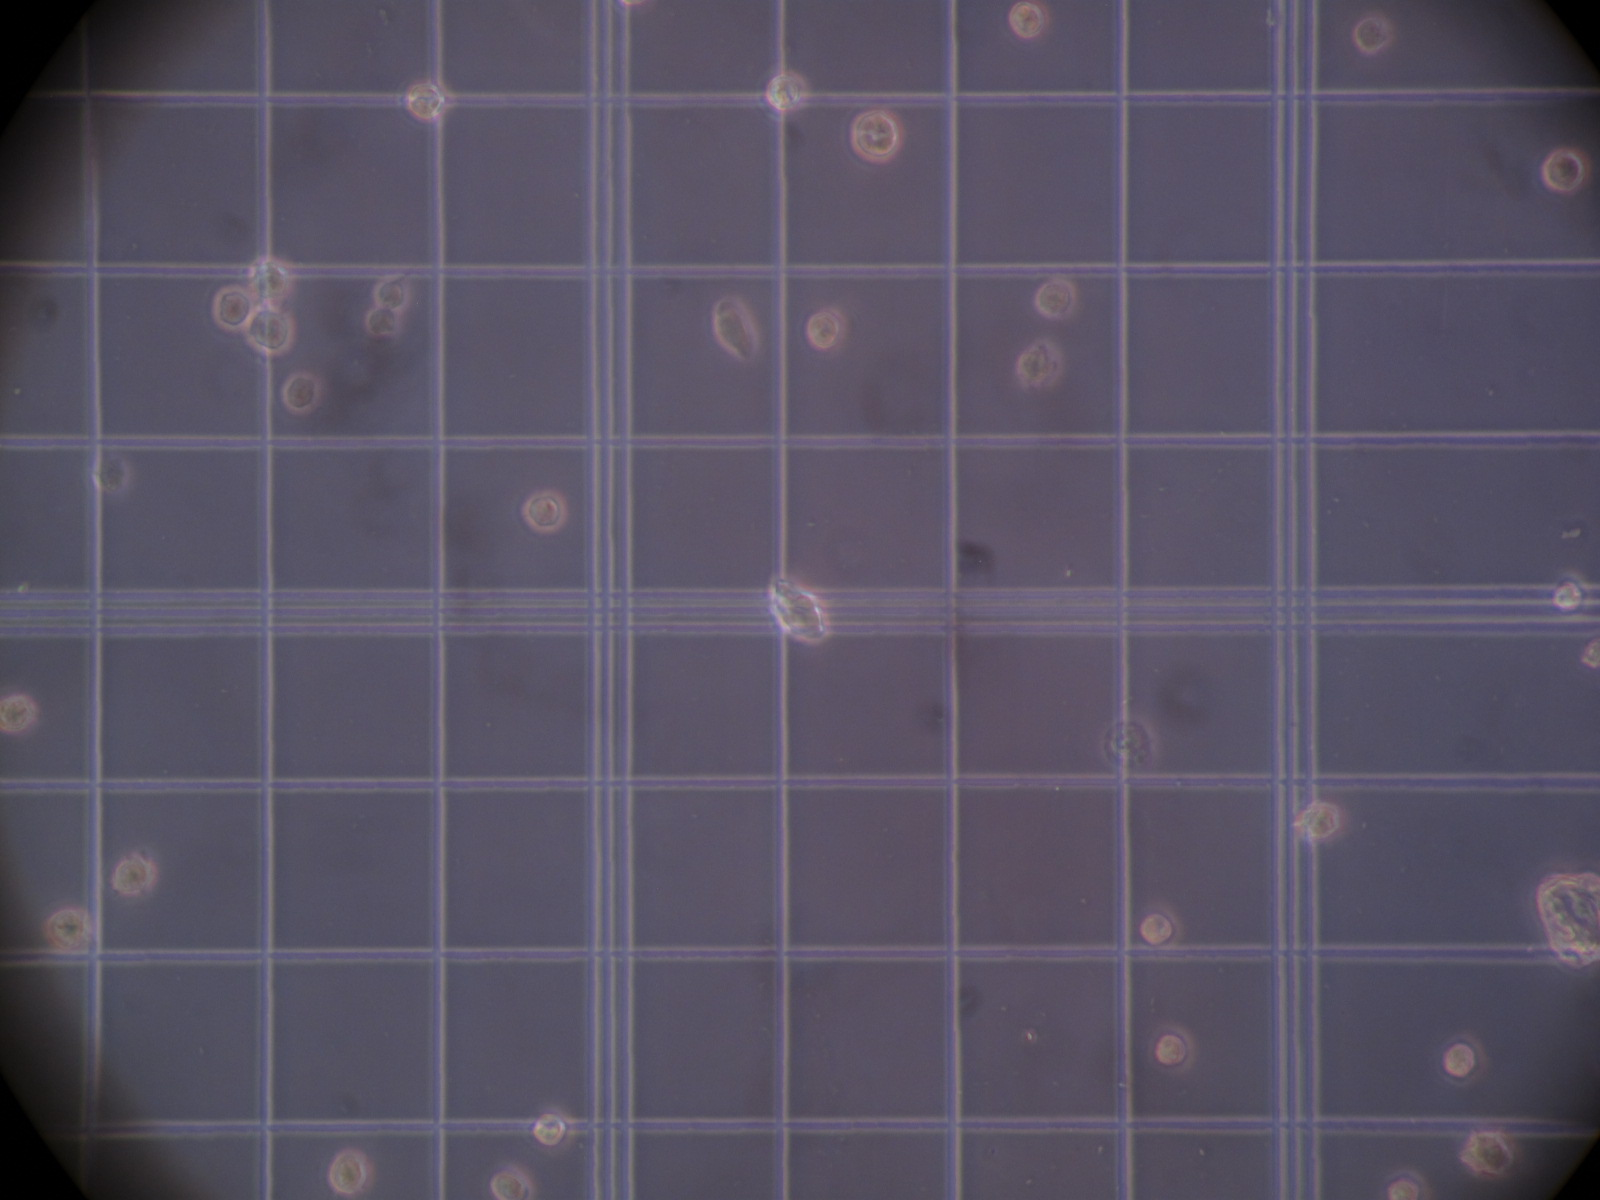hemo: (769, 574, 831, 645), (711, 297, 758, 361), (849, 108, 905, 163), (1461, 1127, 1518, 1179), (1148, 1024, 1196, 1076), (1542, 146, 1592, 195), (248, 304, 295, 357), (758, 66, 808, 115), (1015, 338, 1063, 388), (1293, 798, 1344, 845), (527, 1103, 574, 1151), (402, 79, 452, 124), (522, 488, 568, 534), (328, 1150, 373, 1197), (804, 303, 848, 352), (212, 281, 254, 332), (1444, 1031, 1487, 1082), (249, 255, 295, 301), (1140, 900, 1184, 948), (47, 908, 93, 950), (110, 855, 156, 897), (1033, 279, 1078, 320), (282, 371, 323, 416), (1552, 571, 1592, 616), (490, 1165, 539, 1200), (1008, 1, 1049, 40), (89, 454, 129, 494), (1351, 16, 1390, 55), (372, 276, 411, 314), (1382, 1168, 1429, 1200), (1, 696, 37, 734), (365, 308, 402, 337), (1582, 626, 1600, 671)
